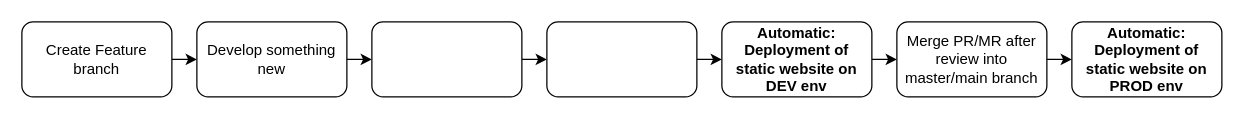
Image size: 1244x119. Some labels were removed from this diagram. The centre of each missing label's shape, as x and y in pixels:
Commit & Push to remote Repository: the point at 446,59
Create a Pull Request/Merge Request: the point at 621,59
